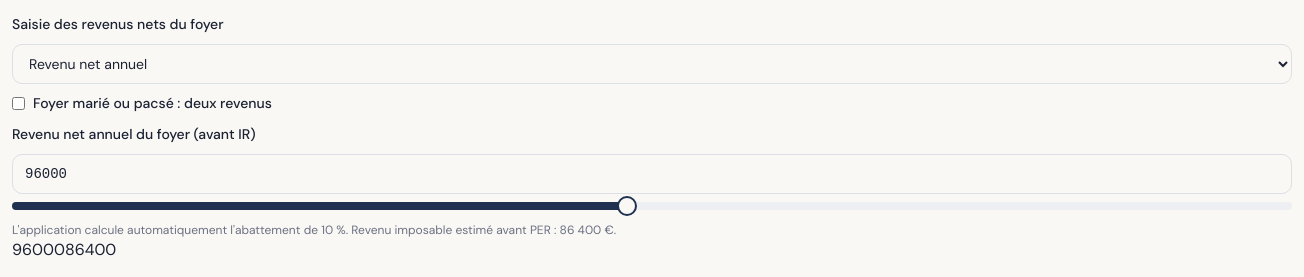
Test case: conserve la saisie annuelle et applique toujours automatiquement l’abattement
Replace the text in the number field with id "annual-income" with "80000" at (652, 174), box [12,154,1292,194]
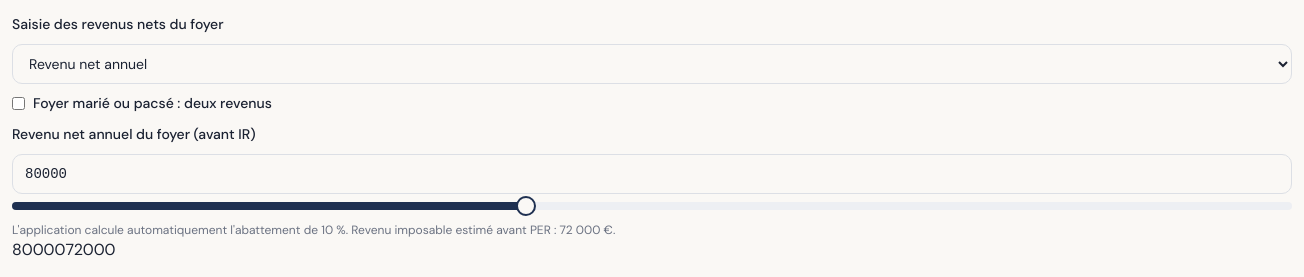
Now the text with test id "taxable" reads "72000", box [66,239,116,260]
